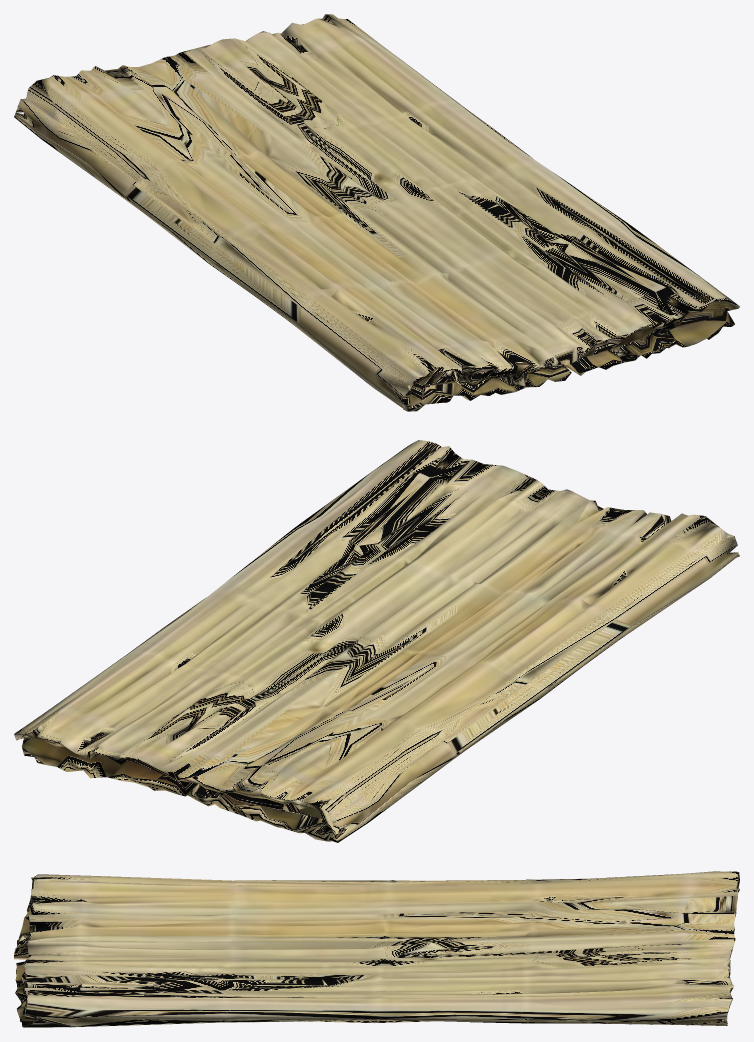
The model's file is gso_sushi_mat.glb.
3 renders of one model, top to bottom at view 1: azimuth 30°, elevation 25°; view 2: azimuth 150°, elevation 25°; view 3: azimuth 270°, elevation 25°, orthographic. The views are drawn at different scales.
Parts seen in each view (by area): view 1: z-up-to-y-up; view 2: z-up-to-y-up; view 3: z-up-to-y-up.
Boxes of the visible parts, x1,y1,x2,y2 form: z-up-to-y-up: (14, 14, 739, 411); z-up-to-y-up: (14, 440, 739, 842); z-up-to-y-up: (14, 871, 739, 1027).
Size of the model in its own units: 0.1186 by 0.0145 by 0.2481.
Materials: 1 (1 with a texture image).
